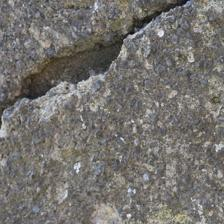Crack: (7, 6, 181, 116)
